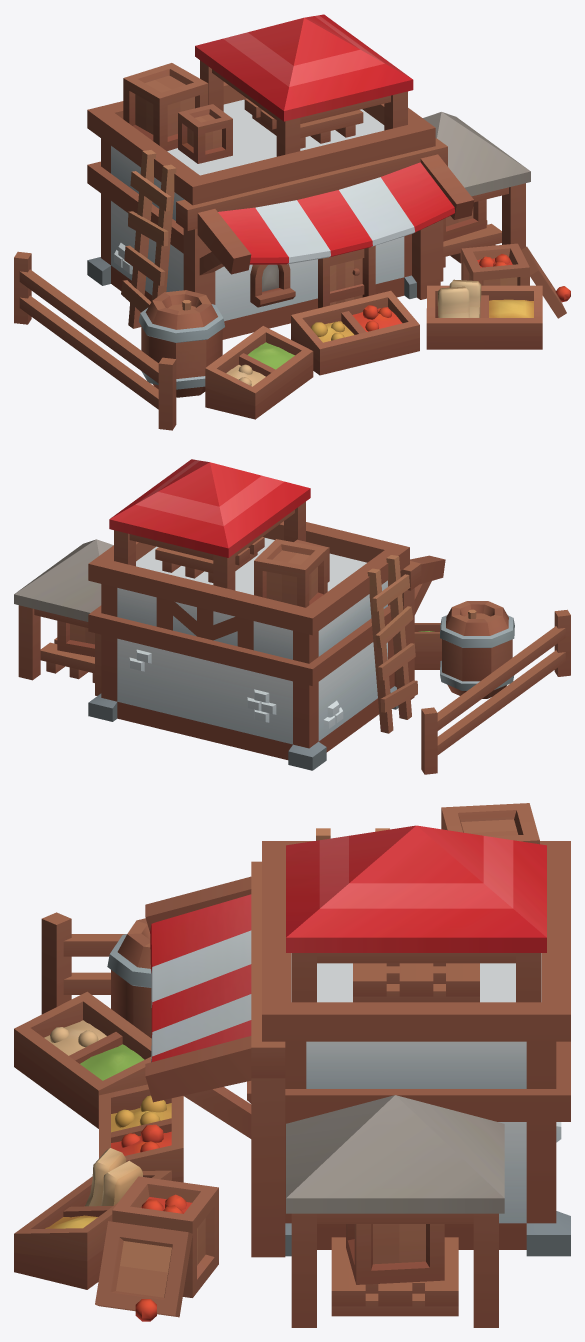
The model's file is k-market-kaykit.glb.
The picture shows the model from 3 angles, top to bottom: view 1: azimuth 30°, elevation 25°; view 2: azimuth 150°, elevation 25°; view 3: azimuth 270°, elevation 25°; orthographic projection. The views are drawn at different scales.
Parts seen in each view (by area): view 1: building_market_red; view 2: building_market_red; view 3: building_market_red.
Boxes of the visible parts, bbox=[...] form: building_market_red: bbox=[14, 14, 570, 430]; building_market_red: bbox=[14, 459, 570, 774]; building_market_red: bbox=[14, 803, 570, 1327].
Bounding box in the file's own units: 1.8 × 0.9818 × 1.32.
Materials: 1 (1 with a texture image).
